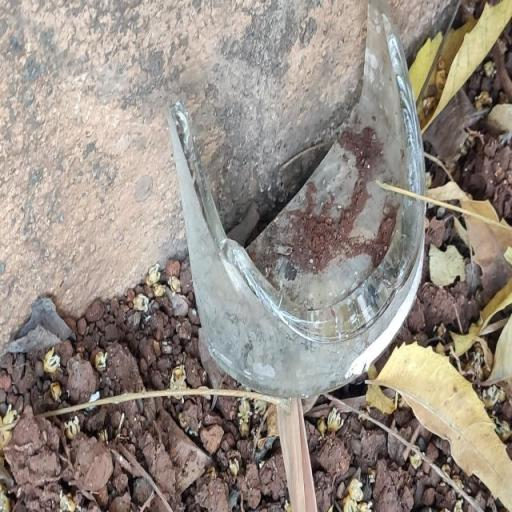glass: (170, 0, 448, 427)
